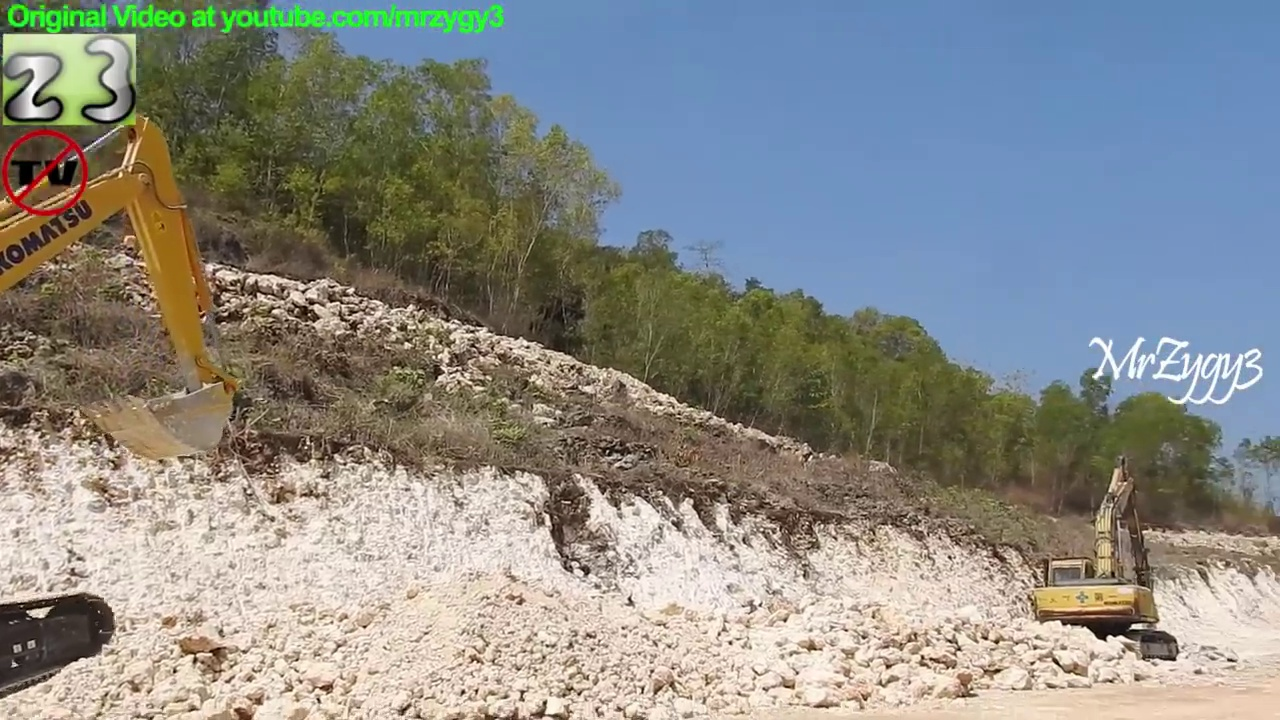excavator: (2, 113, 244, 705), (1022, 452, 1185, 669)
